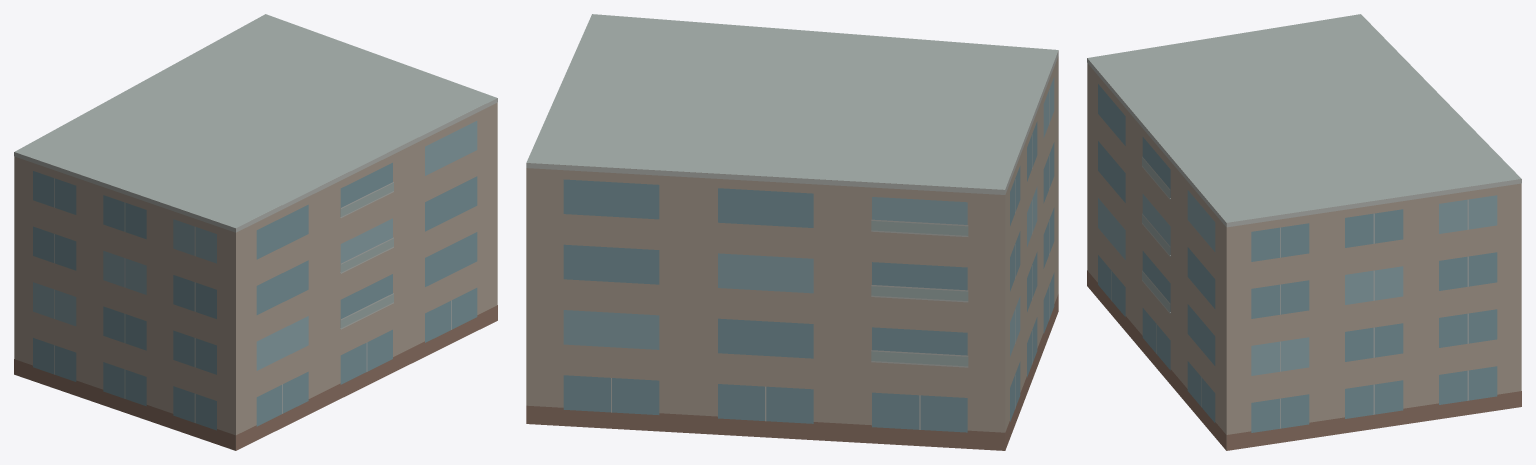
Rendered from survey-upis-32851524.glb.
3 views of the same model, side by side, from view 1: azimuth 30°, elevation 25°; view 2: azimuth 150°, elevation 25°; view 3: azimuth 270°, elevation 25° (orthographic). The views are drawn at different scales.
Parts seen in each view (by area): view 1: survey-upis-32851524.tmp; view 2: survey-upis-32851524.tmp; view 3: survey-upis-32851524.tmp.
Boxes of the visible parts, x1,y1,x2,y2 form: survey-upis-32851524.tmp: [14, 14, 497, 450]; survey-upis-32851524.tmp: [526, 14, 1058, 450]; survey-upis-32851524.tmp: [1087, 14, 1521, 450].
Bounding box in the file's own units: 24.18 × 12.3 × 21.26.
